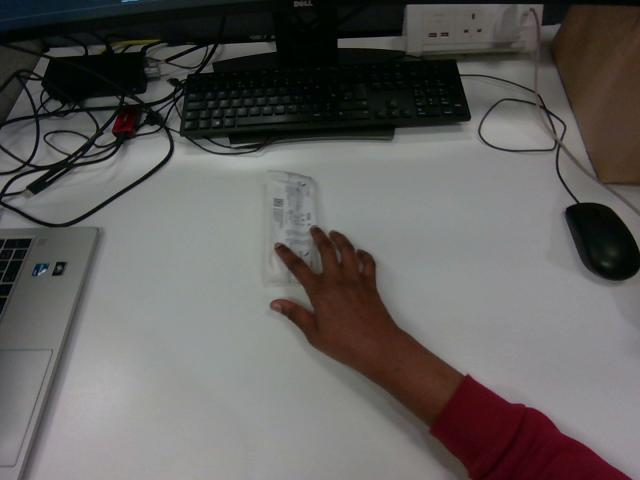syringe: (263, 170, 316, 284)
